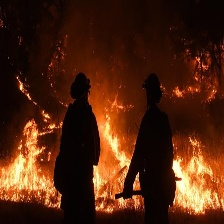fire: (3, 118, 59, 206), (95, 115, 138, 214), (172, 133, 224, 214), (12, 78, 51, 118)
